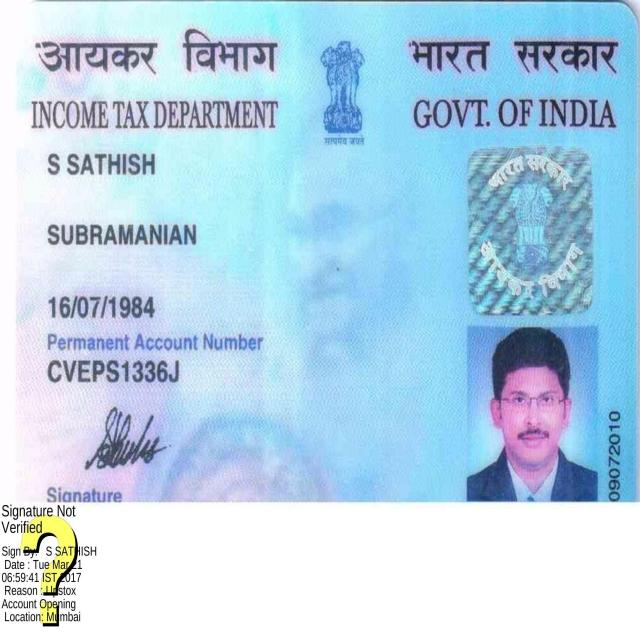pan_card: (19, 4, 640, 504)
